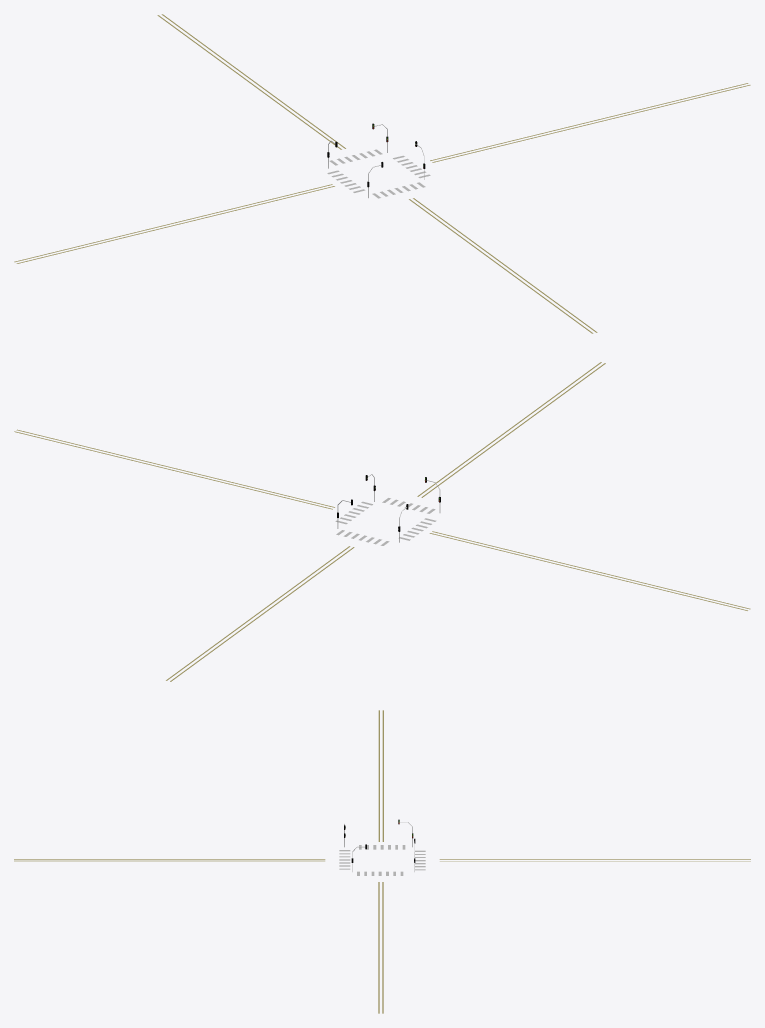
Rendered from int-test-5.fbx.
The picture shows the model from 3 angles, top to bottom: view 1: azimuth 30°, elevation 25°; view 2: azimuth 150°, elevation 25°; view 3: azimuth 270°, elevation 25°; orthographic projection. The views are drawn at different scales.
Parts seen in each view (by area): view 1: STRET_LN.031, STRET_LN.015_STRET_LN.095, STRET_LN.016_STRET_LN.094, STRET_LN.012_STRET_LN.098; view 2: STRET_LN.015_STRET_LN.095, STRET_LN.031, STRET_LN.012_STRET_LN.098, STRET_LN.016_STRET_LN.094; view 3: STRET_LN.016_STRET_LN.094, STRET_LN.012_STRET_LN.098, STRET_LN.015_STRET_LN.095, STRET_LN.031.
Boxes of the visible parts, x1=… form: STRET_LN.031: x1=14, y1=184, x2=334, y2=263; STRET_LN.015_STRET_LN.095: x1=430, y1=83, x2=750, y2=162; STRET_LN.016_STRET_LN.094: x1=409, y1=198, x2=597, y2=333; STRET_LN.012_STRET_LN.098: x1=157, y1=14, x2=345, y2=149; STRET_LN.015_STRET_LN.095: x1=14, y1=429, x2=334, y2=509; STRET_LN.031: x1=429, y1=531, x2=750, y2=610; STRET_LN.012_STRET_LN.098: x1=166, y1=546, x2=354, y2=681; STRET_LN.016_STRET_LN.094: x1=417, y1=362, x2=605, y2=497; STRET_LN.016_STRET_LN.094: x1=14, y1=859, x2=325, y2=861; STRET_LN.012_STRET_LN.098: x1=439, y1=859, x2=750, y2=861; STRET_LN.015_STRET_LN.095: x1=378, y1=882, x2=383, y2=1013; STRET_LN.031: x1=378, y1=710, x2=383, y2=841.
Size of the model in its own units: 198 by 8.38 by 203.
